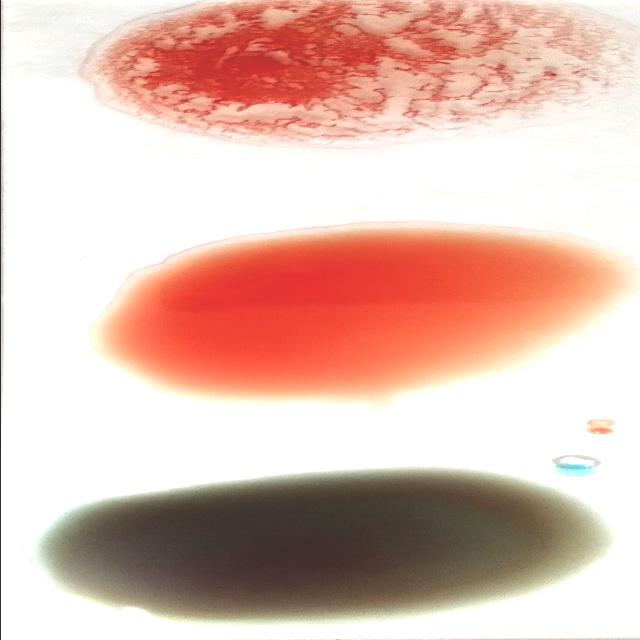D: (85, 1, 608, 138)
